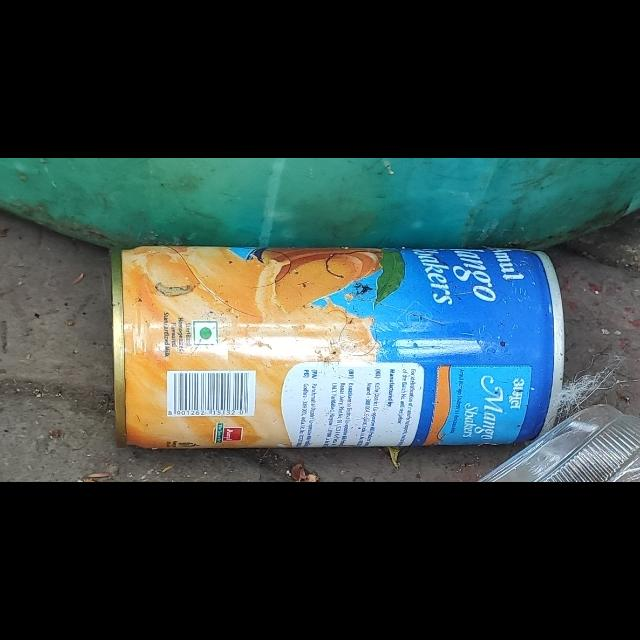trash: (114, 245, 566, 450), (477, 403, 639, 481)
